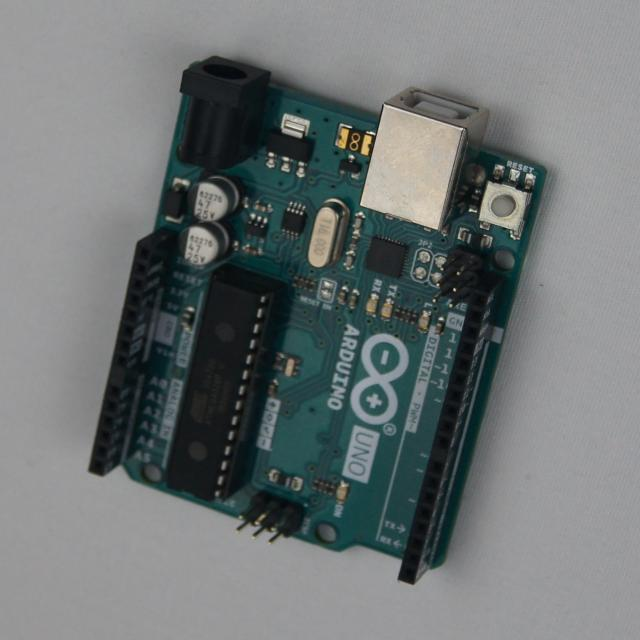Arduino Uno -Green-: (91, 57, 546, 585)
